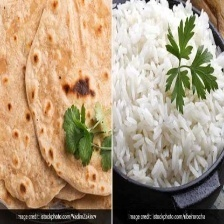roti: (0, 1, 110, 207)
